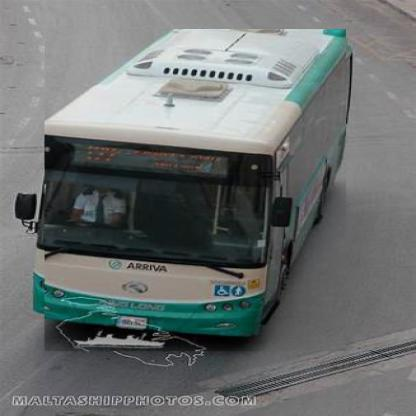bus: (46, 30, 349, 353)
